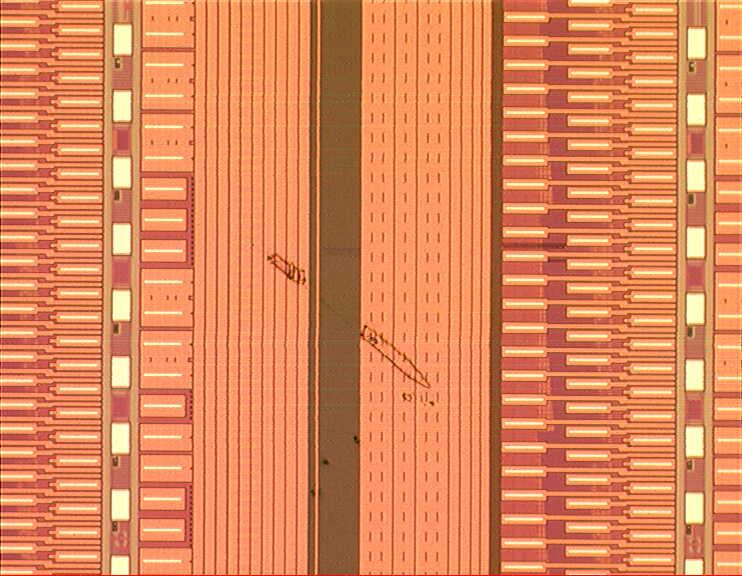SCRATCH: (256, 245, 451, 409)
